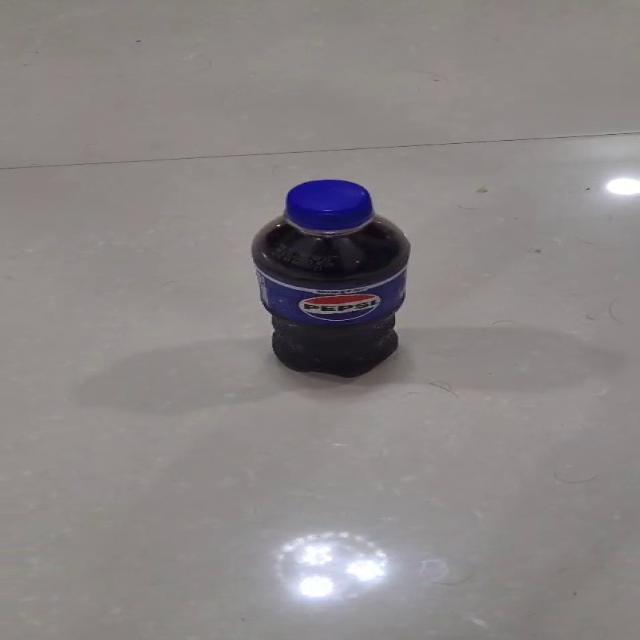plastic: (249, 178, 411, 378)
